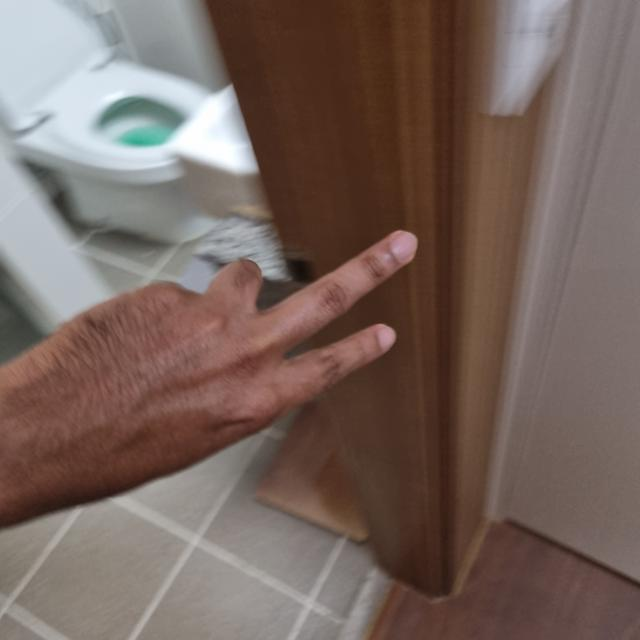Scissors: (1, 239, 407, 499)
